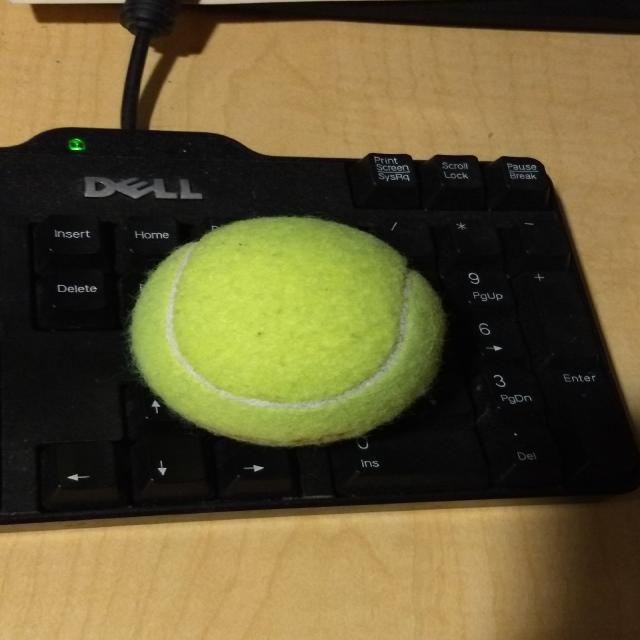tennis-ball: (129, 215, 448, 451)
